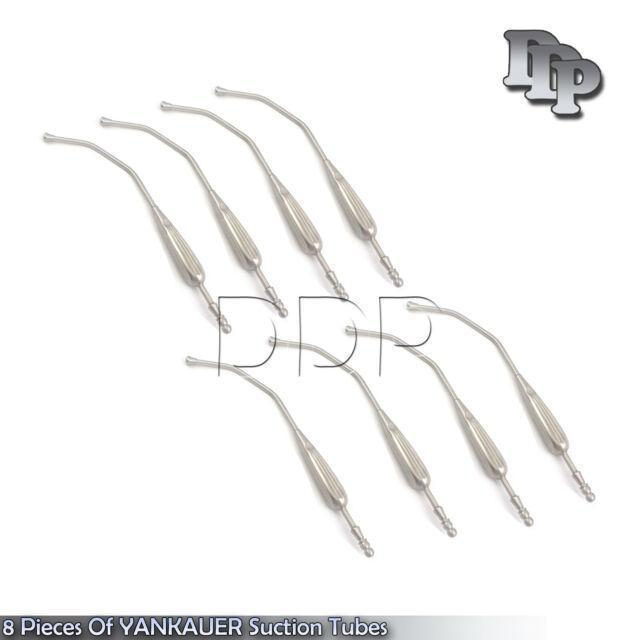Yankauer: (341, 322, 536, 530), (158, 97, 351, 306), (403, 297, 597, 504), (213, 82, 406, 290), (264, 333, 459, 538), (99, 114, 291, 320), (42, 130, 234, 336), (183, 354, 375, 560)
